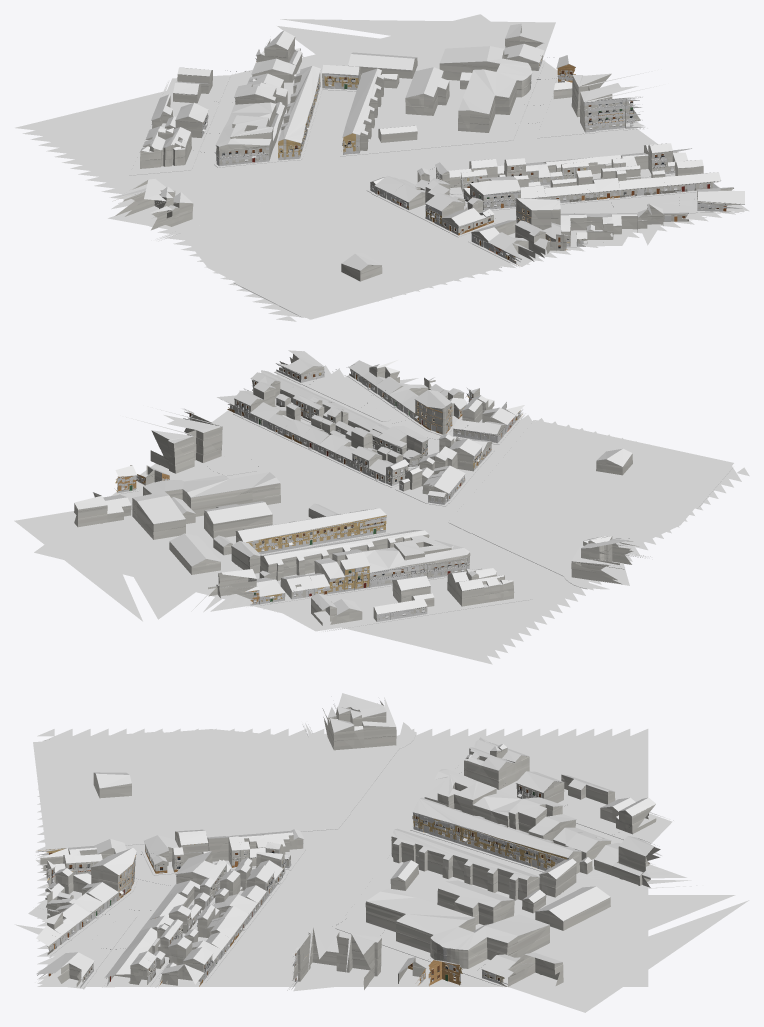
Rendered from zona_-2_1.glb.
3 views of the same model, one above another, from view 1: azimuth 30°, elevation 25°; view 2: azimuth 150°, elevation 25°; view 3: azimuth 270°, elevation 25° (orthographic). The views are drawn at different scales.
Visible parts, largest first — view 1: z_calle_-2_1, z_tejados_-2_1, z_casas_-2_1, z_fachadas_-2_1, z_casas_planas_-2_1, z_suelo_-2_1; view 2: z_calle_-2_1, z_tejados_-2_1, z_casas_-2_1, z_fachadas_-2_1, z_casas_planas_-2_1, z_suelo_-2_1; view 3: z_calle_-2_1, z_tejados_-2_1, z_casas_-2_1, z_fachadas_-2_1, z_casas_planas_-2_1, z_suelo_-2_1.
Part boxes in pixels (bbox=[...]): z_calle_-2_1: bbox=[15, 14, 749, 321]; z_tejados_-2_1: bbox=[114, 23, 744, 270]; z_casas_-2_1: bbox=[112, 26, 740, 281]; z_fachadas_-2_1: bbox=[151, 49, 744, 263]; z_casas_planas_-2_1: bbox=[142, 71, 659, 180]; z_suelo_-2_1: bbox=[195, 58, 719, 250]; z_calle_-2_1: bbox=[14, 365, 749, 664]; z_tejados_-2_1: bbox=[74, 350, 632, 614]; z_casas_-2_1: bbox=[74, 354, 638, 625]; z_fachadas_-2_1: bbox=[117, 364, 522, 621]; z_casas_planas_-2_1: bbox=[126, 407, 506, 602]; z_suelo_-2_1: bbox=[114, 369, 497, 612]; z_calle_-2_1: bbox=[14, 722, 749, 1012]; z_tejados_-2_1: bbox=[36, 693, 661, 984]; z_casas_-2_1: bbox=[38, 701, 660, 986]; z_fachadas_-2_1: bbox=[36, 784, 649, 989]; z_casas_planas_-2_1: bbox=[152, 758, 496, 989]; z_suelo_-2_1: bbox=[47, 824, 622, 987].
Size of the model in its own units: 235 by 12.99 by 246.
